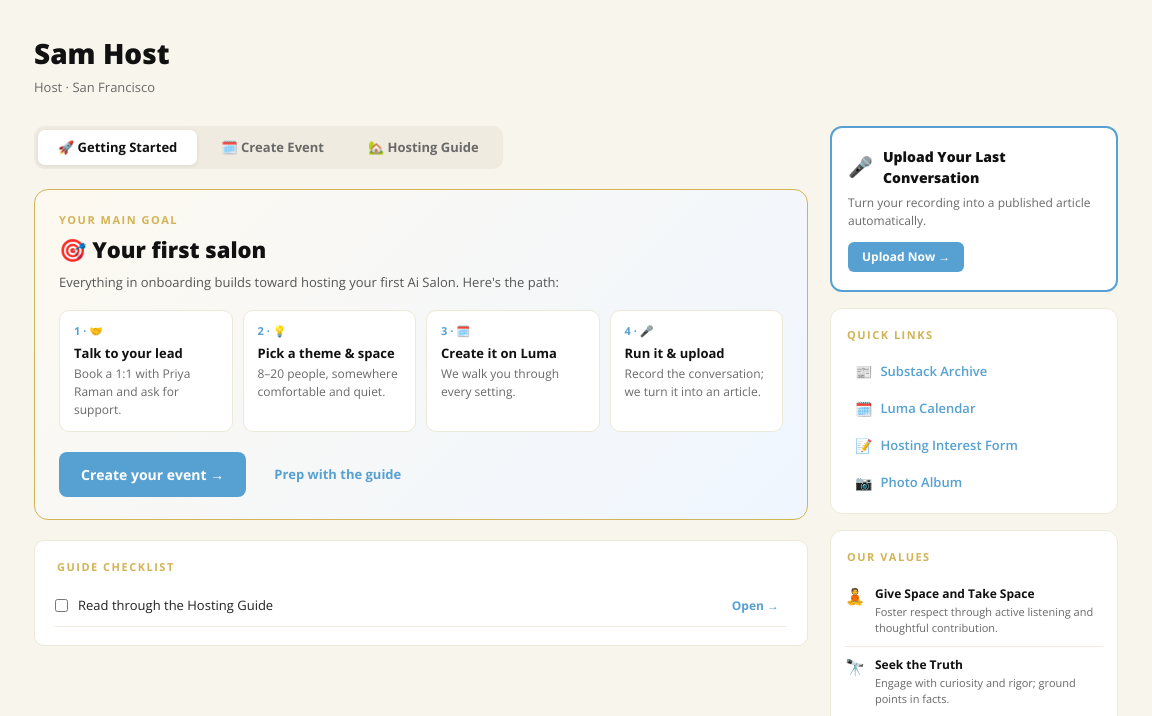
Test case: WelcomeDashboard — host onboarding › "Host your first event" jumps to Create Event
Step 1. Click the button "🏡 Hosting Guide" → (423, 147), box [348, 130, 499, 165]
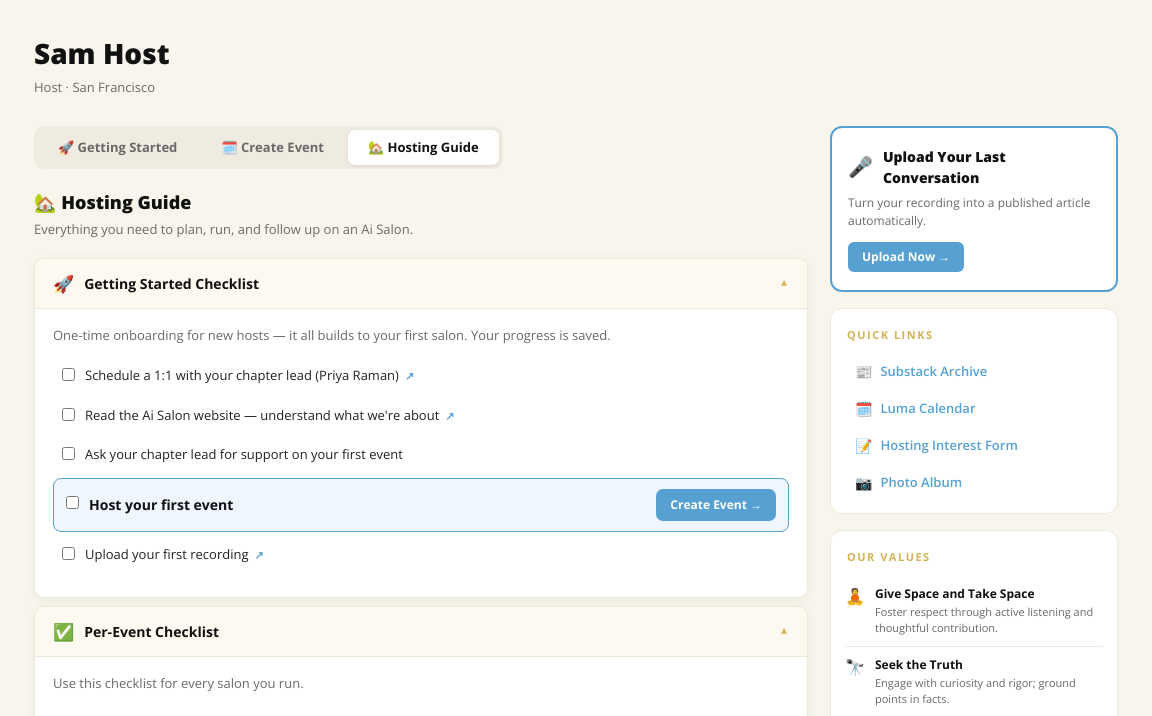
Step 2. Click the button "Create Event →" → (716, 505), box [656, 489, 776, 521]
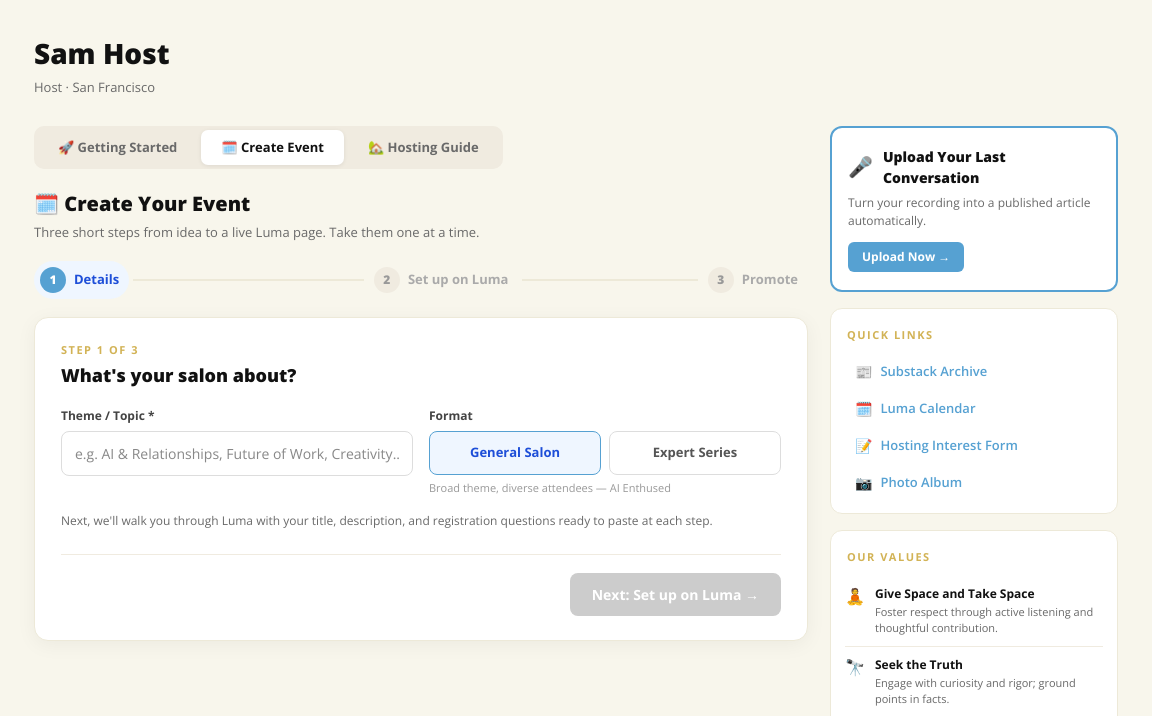
Check: the field labelled "Theme / Topic *" is shown, box [61, 431, 413, 476]
